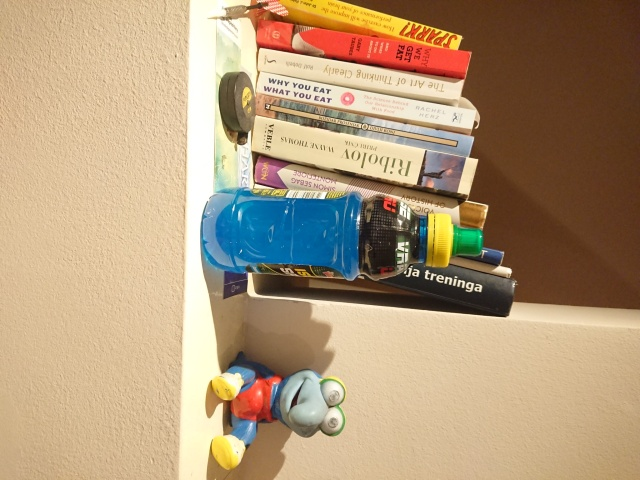Vindi Iso Sport Forest Strawberries 500mL: (198, 185, 485, 283)
